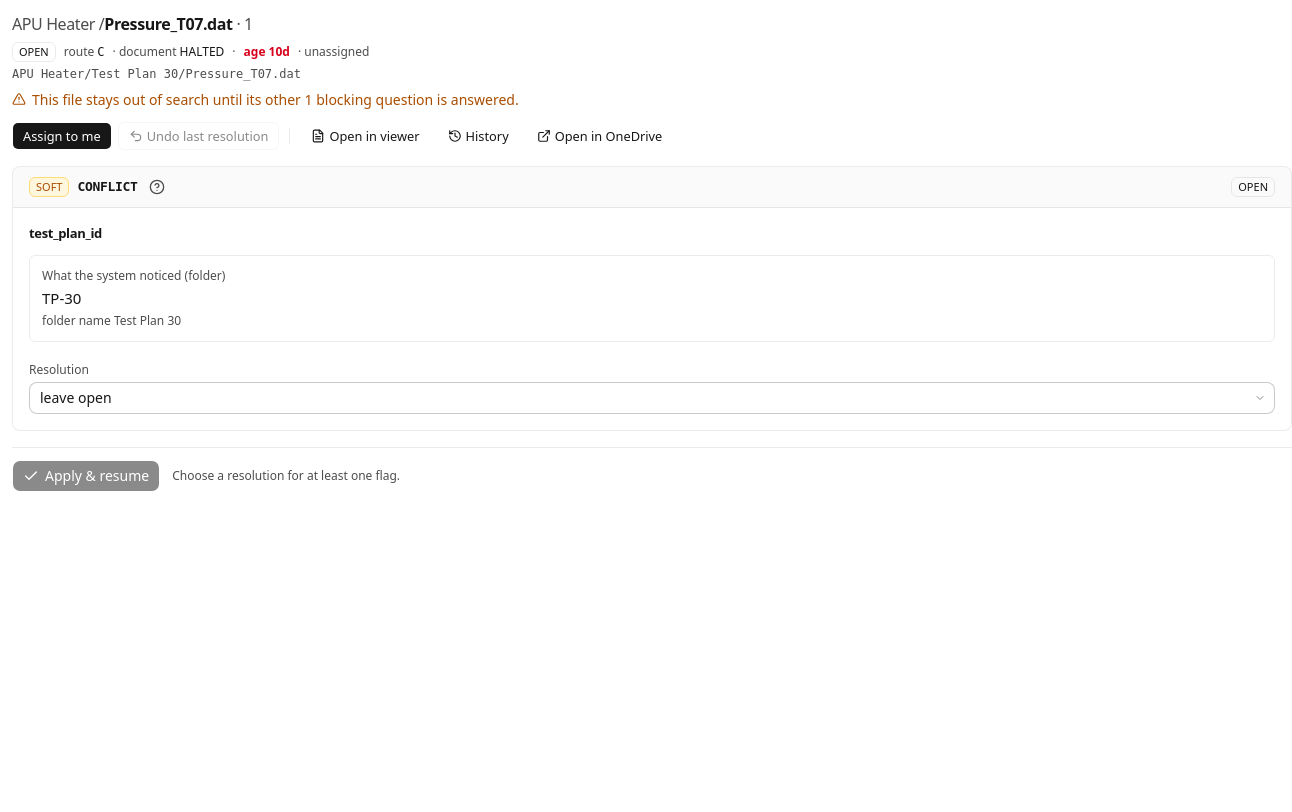
Test: Make a rule from this decision › also offers it after "accept both" on a note, with the relation of that flag
Select "Accept as it is" in the dropdown labelled "Resolution" at [652, 398], box [29,382,1275,414]
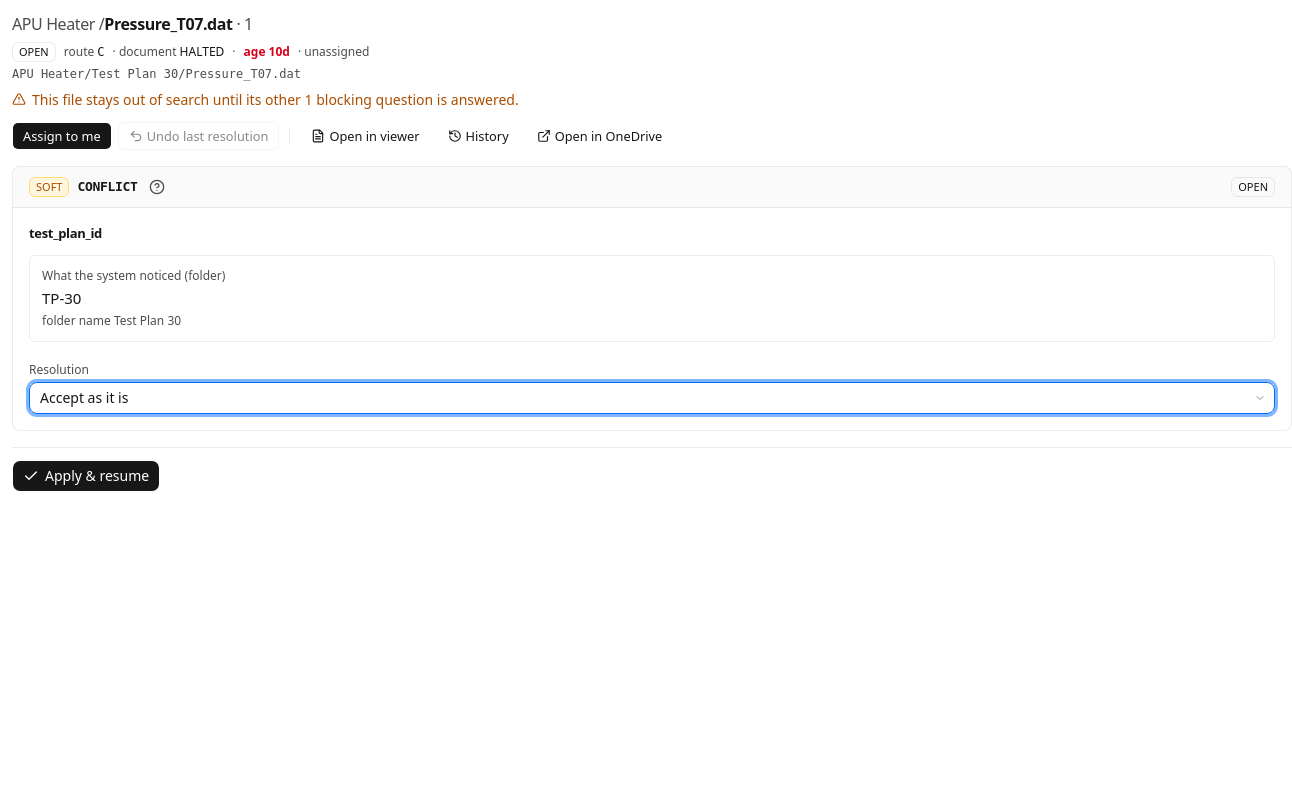
Click the button "Apply & resume" at [86, 476], box [12,460,160,492]
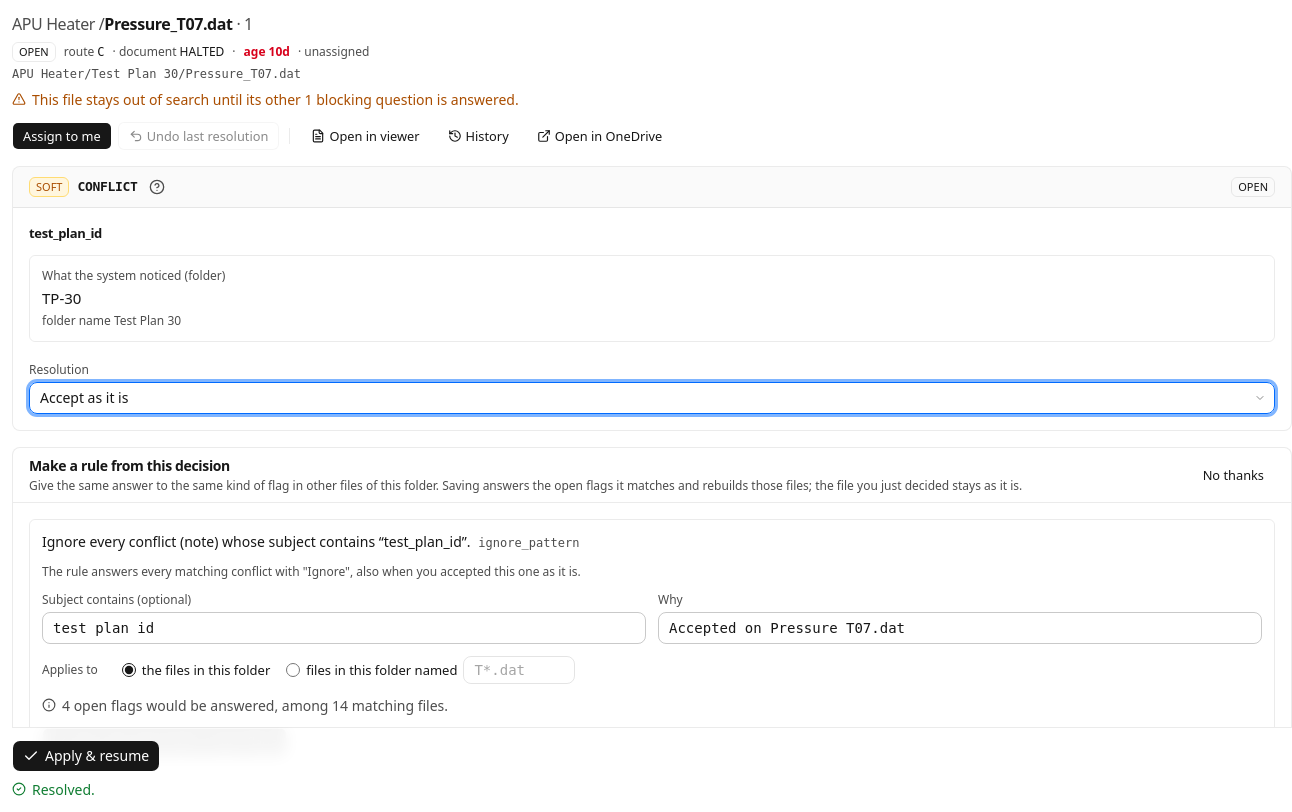
Expected: the text "Ignore every conflict (note)" is shown, [42,532,474,551]
Expected: the text "4 open flags would be answered, among 14 matching files." is shown, [62,696,448,716]
